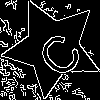C: (28, 22, 86, 81)
